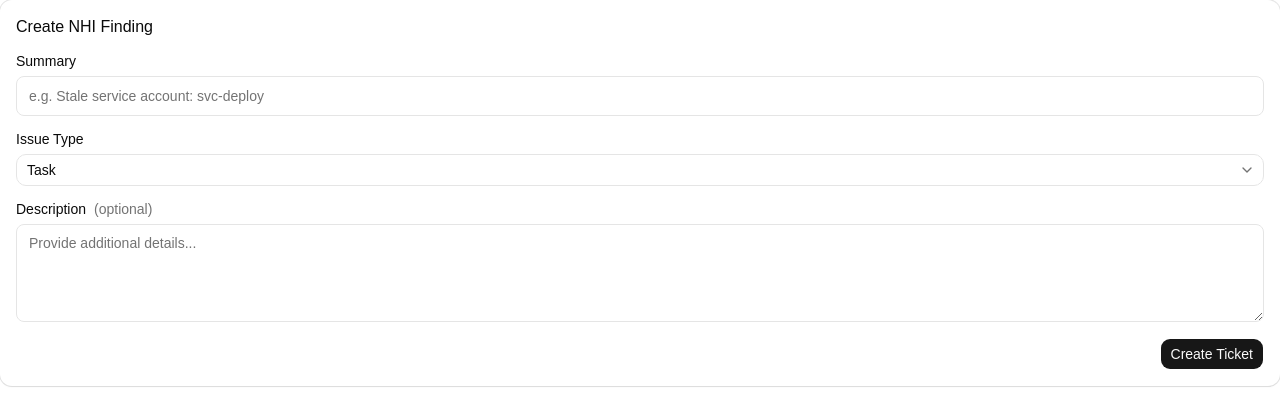
Test case: CreateTicketForm › shows loading spinner on button
In the field labelled "Summary": (640, 96) [16,76,1264,116], type "Test"
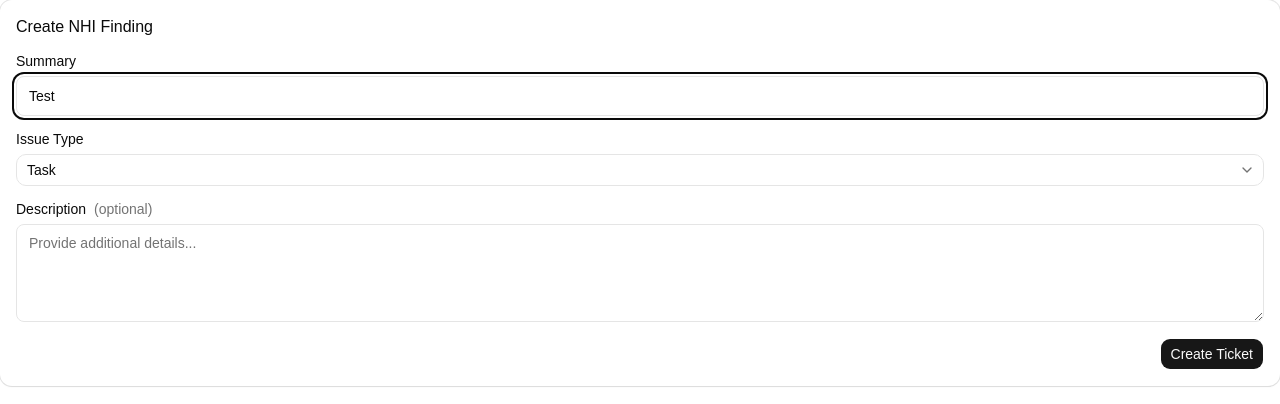
Click the button "Create Ticket": (1212, 354) [1160,338,1264,370]
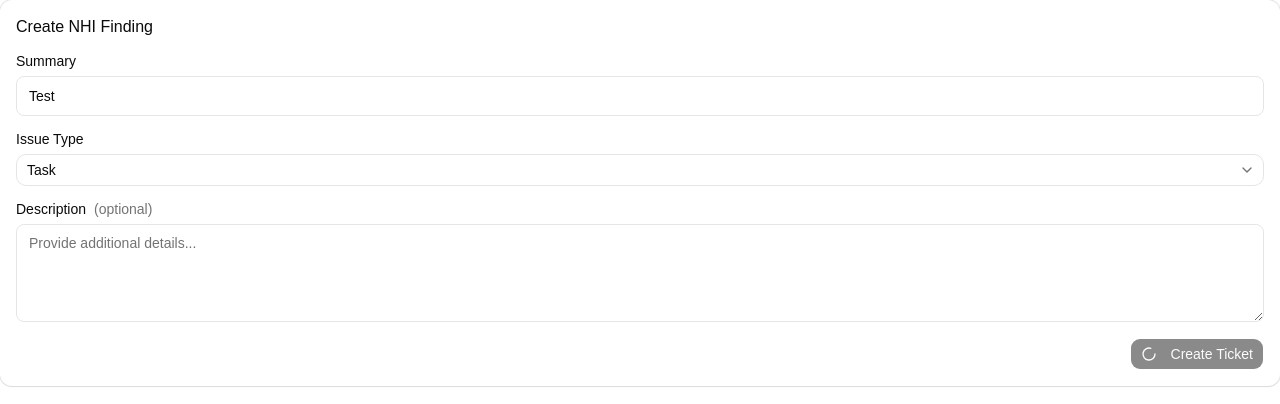
Now the button "Create Ticket" is disabled, box [1130,338,1264,370]
